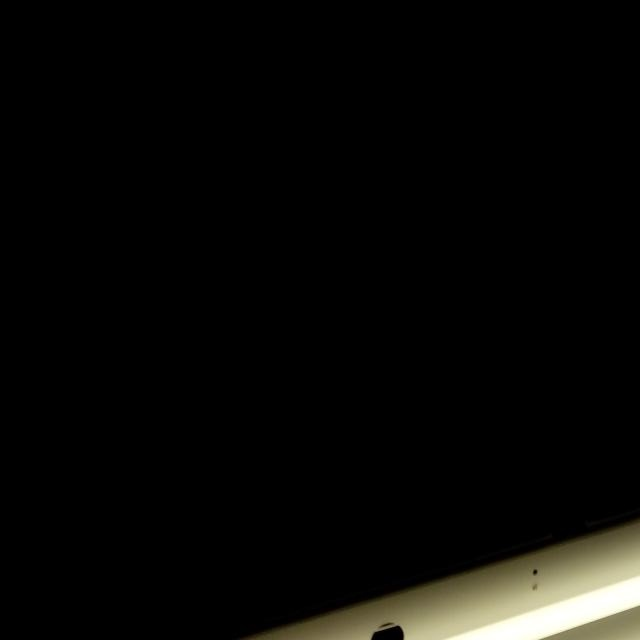fluorescent tube: (132, 295, 640, 640), (117, 394, 640, 640)
